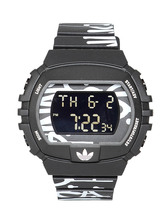watch: (17, 18, 162, 210)
